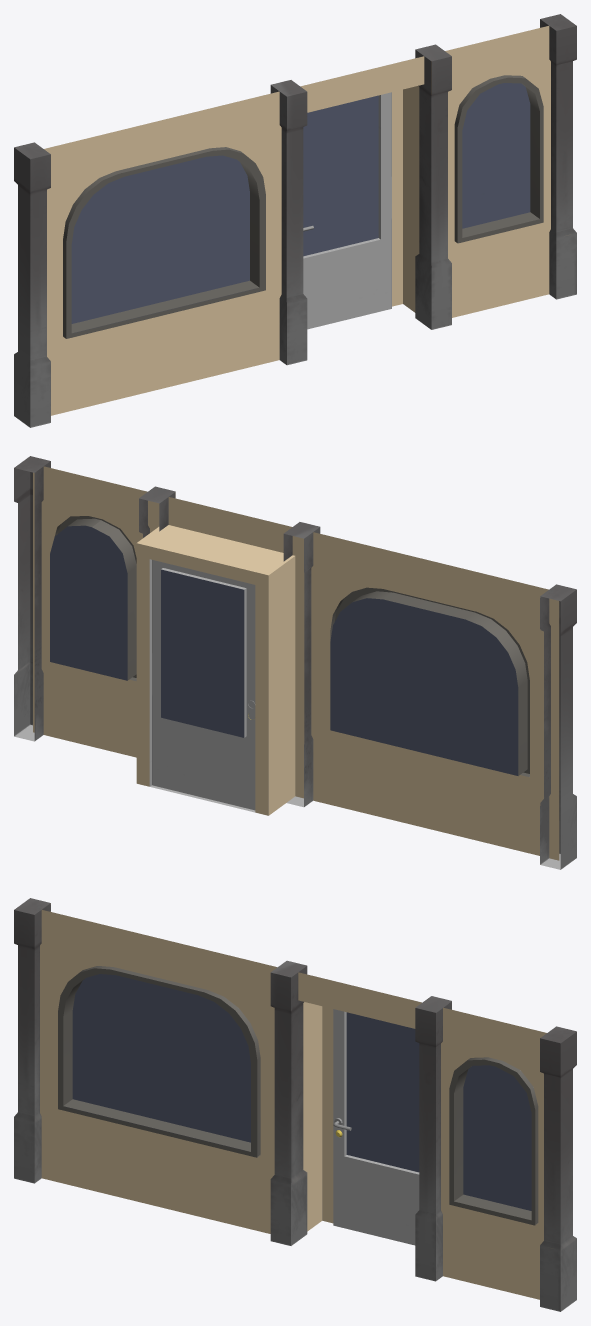
File: M_3W_2F_building_store4.fbx
3 views of the same model, one above another, from view 1: azimuth 30°, elevation 25°; view 2: azimuth 150°, elevation 25°; view 3: azimuth 330°, elevation 25° (orthographic).
Parts seen in each view (by area): view 1: Object054; view 2: Object054; view 3: Object054.
Part boxes in pixels (bbox=[...]): Object054: bbox=[14, 14, 576, 427]; Object054: bbox=[14, 456, 576, 869]; Object054: bbox=[14, 898, 576, 1311].
Size of the model in its own units: 1751 by 822 by 188.
